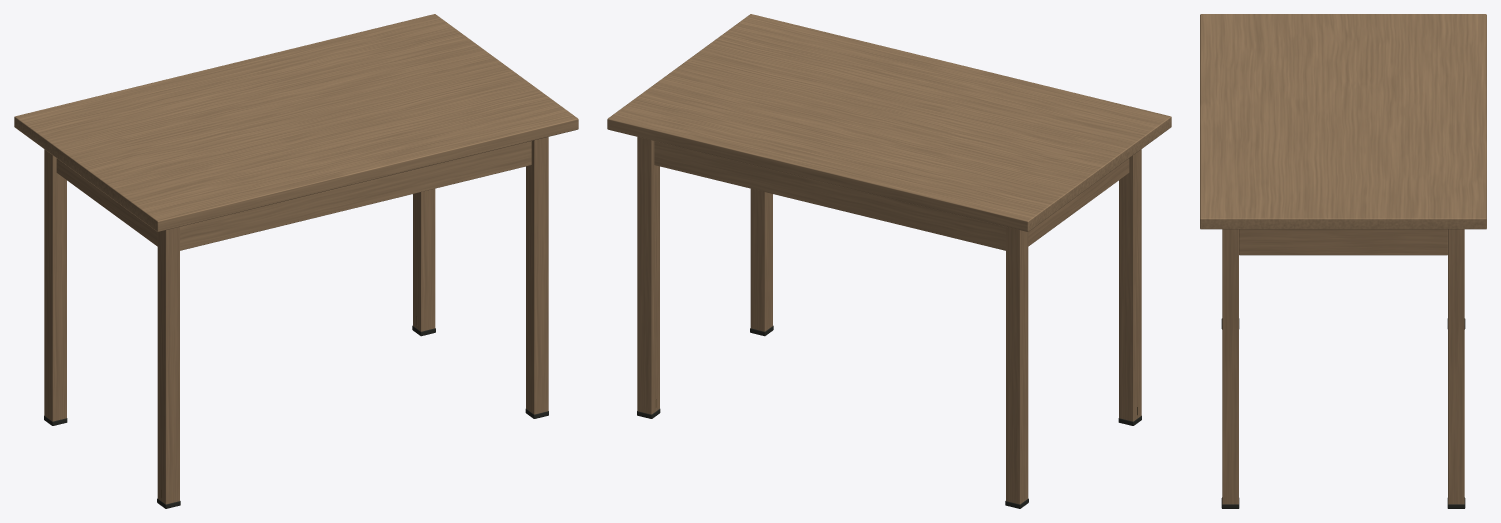
Rendered from KitchenTable_LOD0.fbx.
3 renders of one model, left to right at view 1: azimuth 30°, elevation 25°; view 2: azimuth 150°, elevation 25°; view 3: azimuth 270°, elevation 25°, orthographic.
Parts seen in each view (by area): view 1: Body_LOD0; view 2: Body_LOD0; view 3: Body_LOD0.
Boxes of the visible parts, bbox=[...] form: Body_LOD0: bbox=[14, 14, 578, 508]; Body_LOD0: bbox=[607, 14, 1171, 508]; Body_LOD0: bbox=[1200, 14, 1486, 508].
Size of the model in its own units: 1.1 by 0.75 by 0.65.
